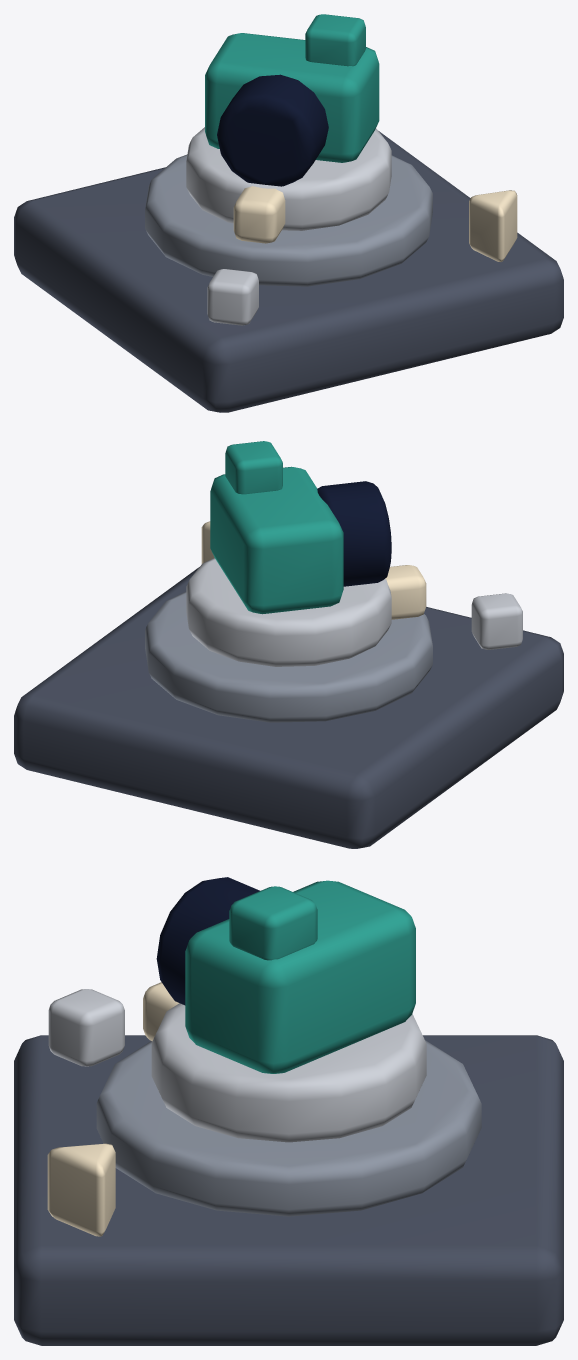
Rendered from Ctrl_Instr_Camera.fbx.
3 views of the same model, one above another, from view 1: azimuth 30°, elevation 25°; view 2: azimuth 150°, elevation 25°; view 3: azimuth 270°, elevation 25° (orthographic). The views are drawn at different scales.
Parts seen in each view (by area): view 1: Ctrl_Instr_Camera.Base, Ctrl_Instr_Camera.Move_Knob, Ctrl_Instr_Camera.Dial, Ctrl_Instr_Camera.Marks; view 2: Ctrl_Instr_Camera.Base, Ctrl_Instr_Camera.Move_Knob, Ctrl_Instr_Camera.Dial, Ctrl_Instr_Camera.Marks; view 3: Ctrl_Instr_Camera.Base, Ctrl_Instr_Camera.Move_Knob, Ctrl_Instr_Camera.Dial, Ctrl_Instr_Camera.Marks.
Boxes of the visible parts, x1,y1,x2,y2 form: Ctrl_Instr_Camera.Base: [14, 131, 563, 412]; Ctrl_Instr_Camera.Move_Knob: [186, 14, 391, 243]; Ctrl_Instr_Camera.Dial: [145, 154, 432, 286]; Ctrl_Instr_Camera.Marks: [207, 190, 517, 325]; Ctrl_Instr_Camera.Base: [14, 567, 563, 848]; Ctrl_Instr_Camera.Move_Knob: [186, 441, 426, 666]; Ctrl_Instr_Camera.Dial: [145, 591, 432, 722]; Ctrl_Instr_Camera.Marks: [201, 521, 522, 649]; Ctrl_Instr_Camera.Base: [14, 1035, 563, 1345]; Ctrl_Instr_Camera.Move_Knob: [143, 877, 426, 1142]; Ctrl_Instr_Camera.Dial: [96, 1040, 481, 1216]; Ctrl_Instr_Camera.Marks: [47, 989, 124, 1236].
Bounding box in the file's own units: 0.2 × 0.147 × 0.2.
Materials: 1 (1 with a texture image).
